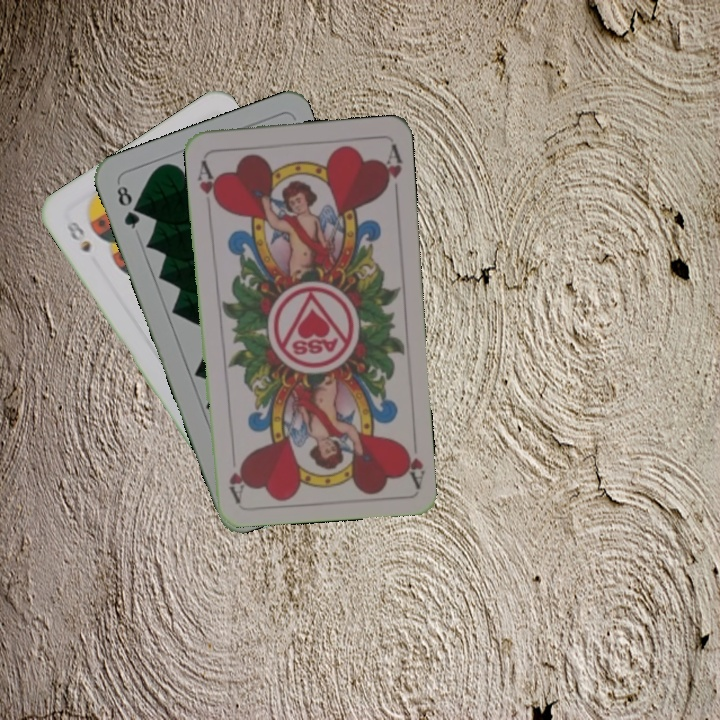G8: (112, 181, 143, 232)
HA: (398, 430, 427, 489), (193, 156, 222, 211)
S8: (62, 217, 94, 256)
